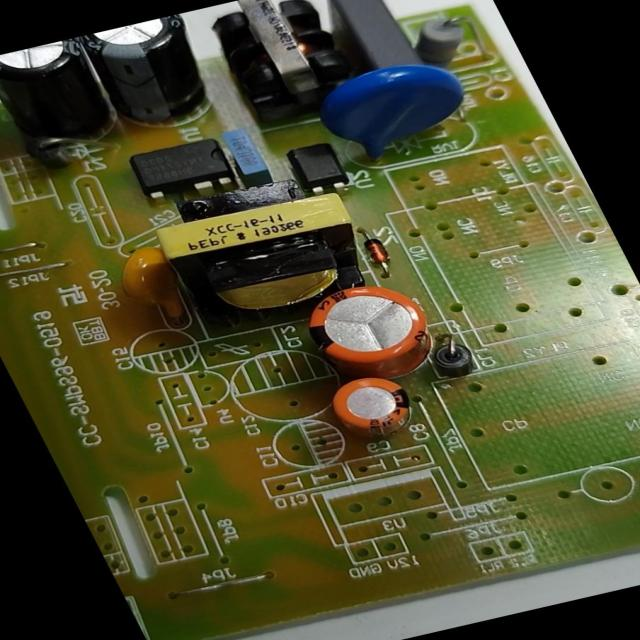Cap1: (279, 270, 460, 395)
Cap2: (308, 366, 439, 455)
Cap3: (69, 13, 240, 144)
Cap4: (0, 35, 144, 172)
MOSFET: (113, 130, 251, 213)
Mov: (285, 46, 502, 184)
Resistor: (393, 4, 492, 79)
Transformer: (137, 184, 408, 354), (199, 0, 382, 134)
